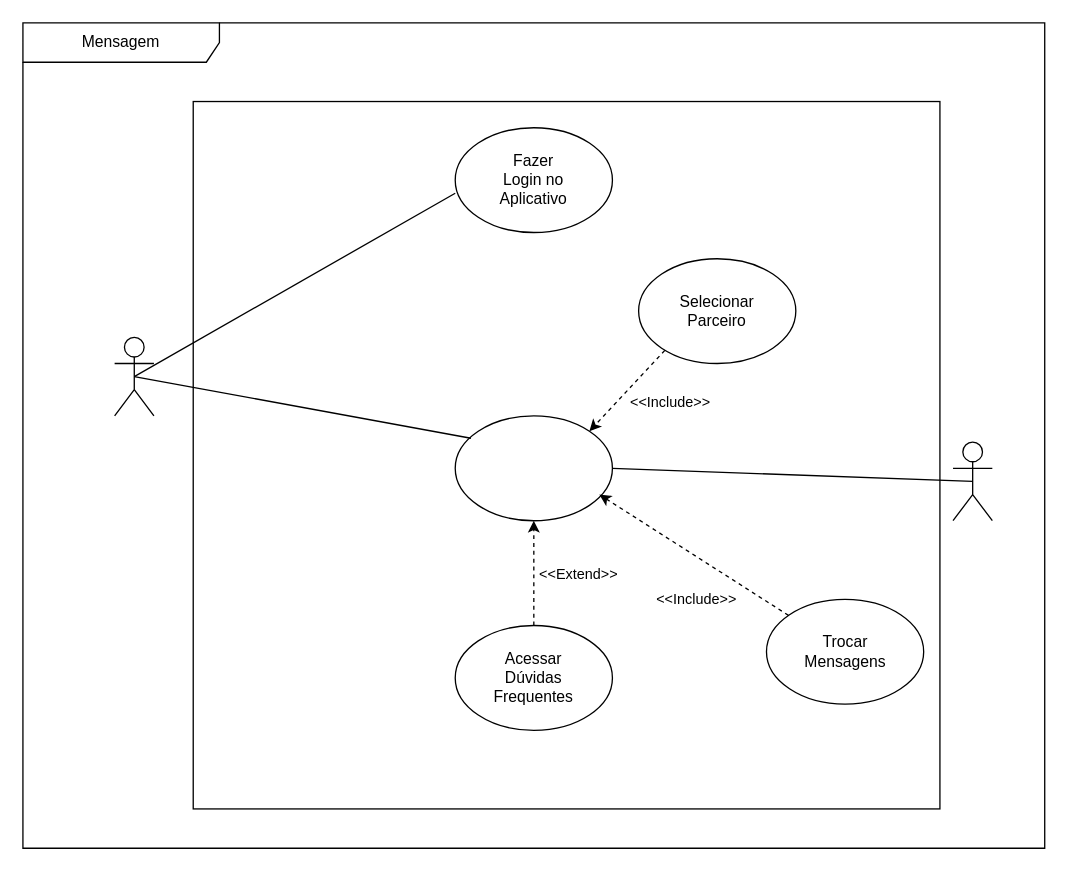
Image size: 1068x871. Some labels were removed from this diagram. Each missing label, with the centre of its shape:
Acessar Módulo Mensagem: the point at 533,468
Parceiro: the point at 972,481
Usuário: the point at 133,376
